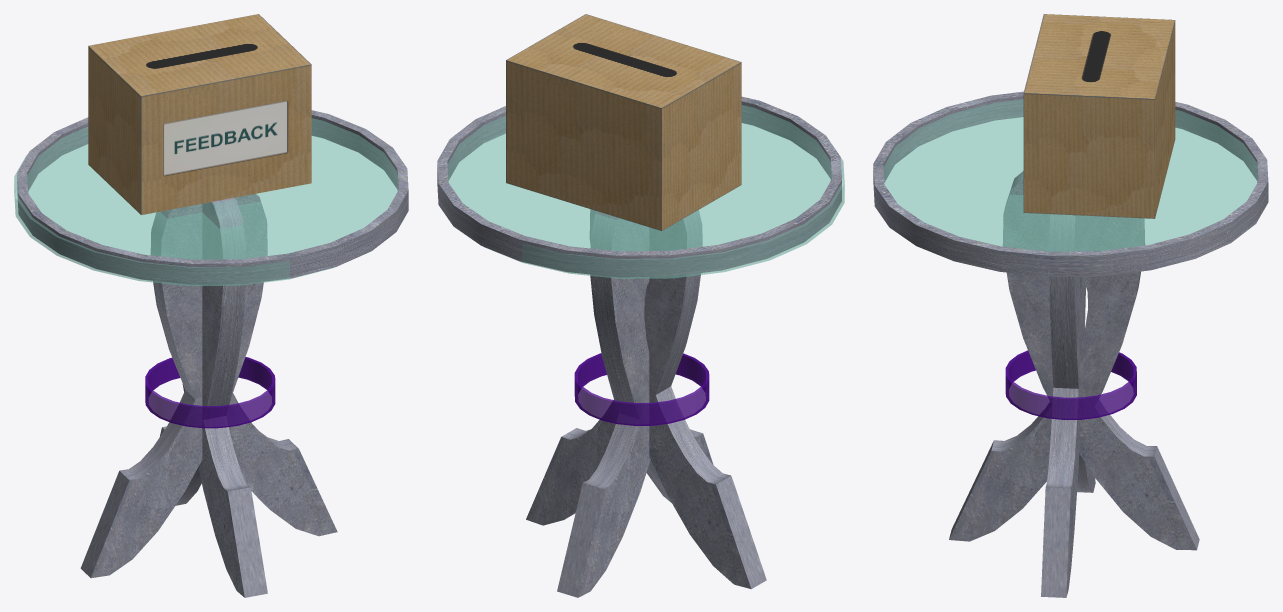
The model's file is Suggestion Box with Course Feedback Survey_123-161-023__cf7064d8-b8c9-4aa3-9076-bd2dfe4c888d.dae.
3 views of the same model, side by side, from view 1: azimuth 30°, elevation 25°; view 2: azimuth 150°, elevation 25°; view 3: azimuth 270°, elevation 25° (orthographic). The views are drawn at different scales.
Visible parts, largest first — view 1: Primitive (×6), Suggestion Box with Course Feedback Survey, HighTopGlassTable; view 2: Primitive (×6), Suggestion Box with Course Feedback Survey, HighTopGlassTable; view 3: Primitive (×6), Suggestion Box with Course Feedback Survey, HighTopGlassTable.
Boxes of the visible parts, x1=… form: Primitive (×6): x1=17, y1=110, x2=408, y2=597; Suggestion Box with Course Feedback Survey: x1=88, y1=14, x2=311, y2=214; HighTopGlassTable: x1=14, y1=118, x2=398, y2=285; Primitive (×6): x1=437, y1=96, x2=841, y2=597; Suggestion Box with Course Feedback Survey: x1=506, y1=14, x2=741, y2=230; HighTopGlassTable: x1=448, y1=105, x2=844, y2=278; Primitive (×6): x1=873, y1=91, x2=1268, y2=597; Suggestion Box with Course Feedback Survey: x1=1023, y1=14, x2=1175, y2=218; HighTopGlassTable: x1=884, y1=99, x2=1268, y2=251.
Bounding box in the file's own units: 1.51 × 1.49 × 2.03.
